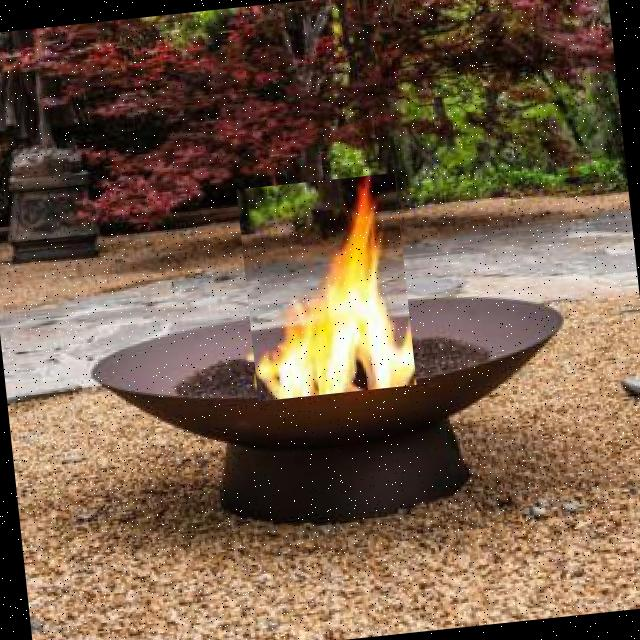fire: (236, 172, 416, 400)
